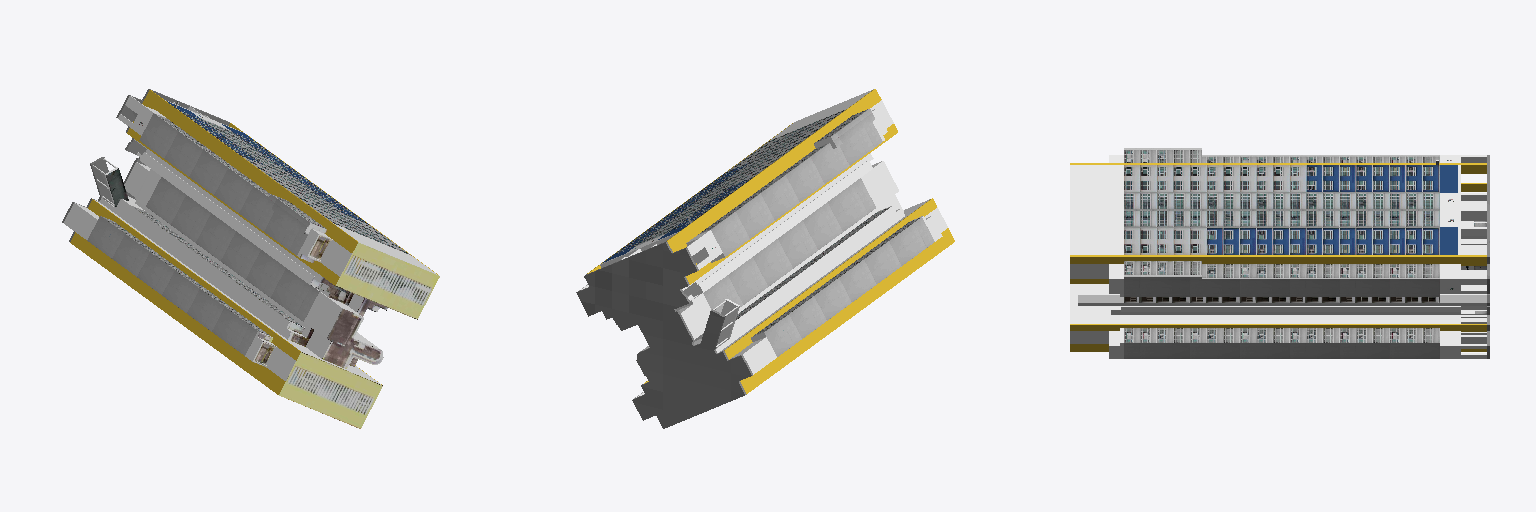
3 renders of one model, left to right at view 1: azimuth 30°, elevation 25°; view 2: azimuth 150°, elevation 25°; view 3: azimuth 270°, elevation 25°, orthographic.
Parts seen in each view (by area): view 1: polygon.768; view 2: polygon.768; view 3: polygon.768.
Boxes of the visible parts, box(x1,y1,x2,y2) form: polygon.768: box(62, 89, 439, 428); polygon.768: box(576, 89, 954, 428); polygon.768: box(1070, 148, 1489, 358).
Size of the model in its own units: 34.35 by 35.54 by 70.17.
Materials: 1 (1 with a texture image).